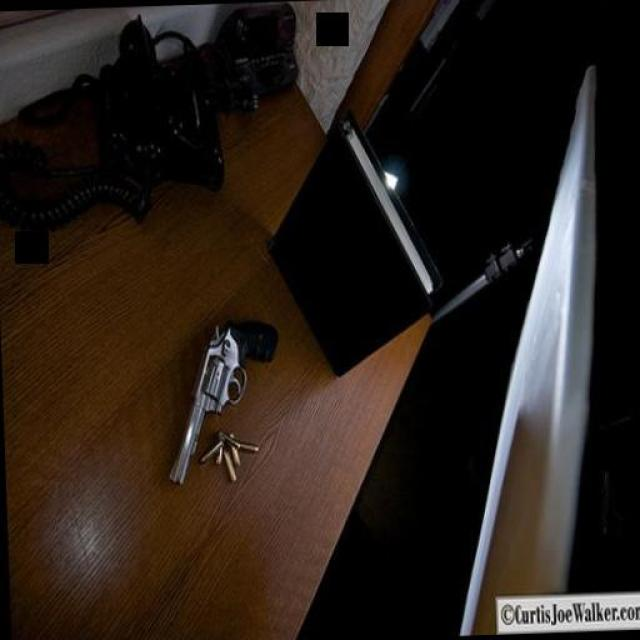gun: (152, 316, 280, 492)
